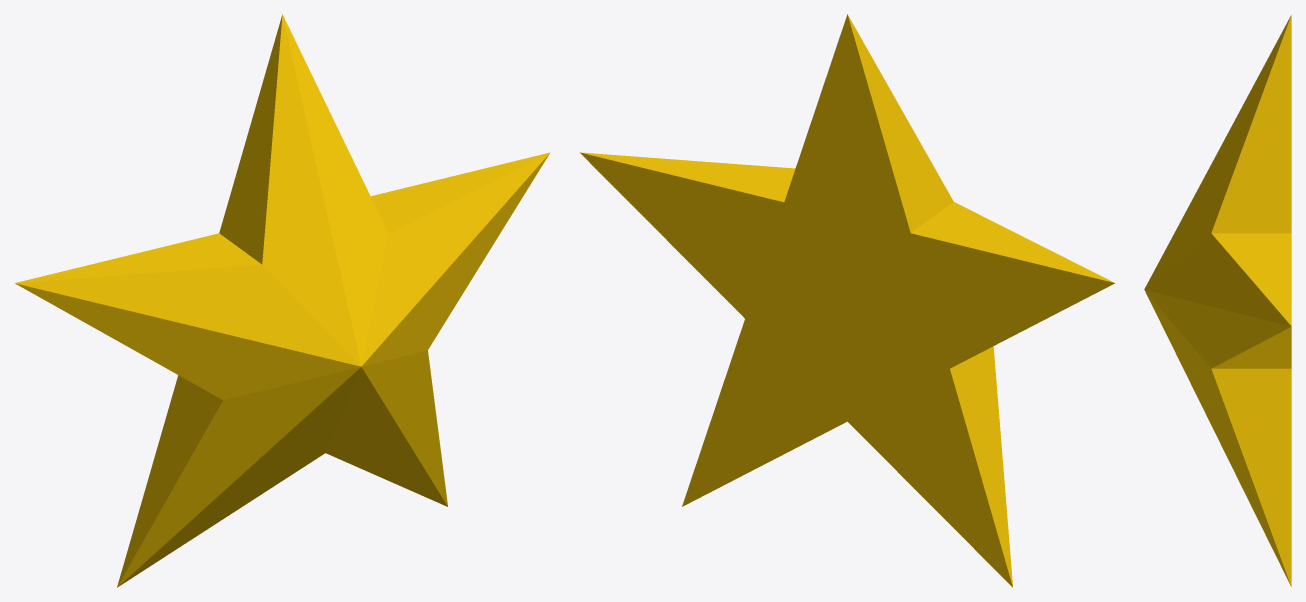
The model's file is gold star.glb.
3 views of the same model, side by side, from view 1: azimuth 30°, elevation 25°; view 2: azimuth 150°, elevation 25°; view 3: azimuth 270°, elevation 25° (orthographic). The views are drawn at different scales.
Visible parts, largest first — view 1: Star; view 2: Star; view 3: Star.
Boxes of the visible parts, box(x1,y1,x2,y2) form: Star: box(15, 14, 550, 587); Star: box(580, 14, 1114, 587); Star: box(1144, 15, 1291, 586).
Bounding box in the file's own units: 0.1594 × 0.1516 × 0.0407.
